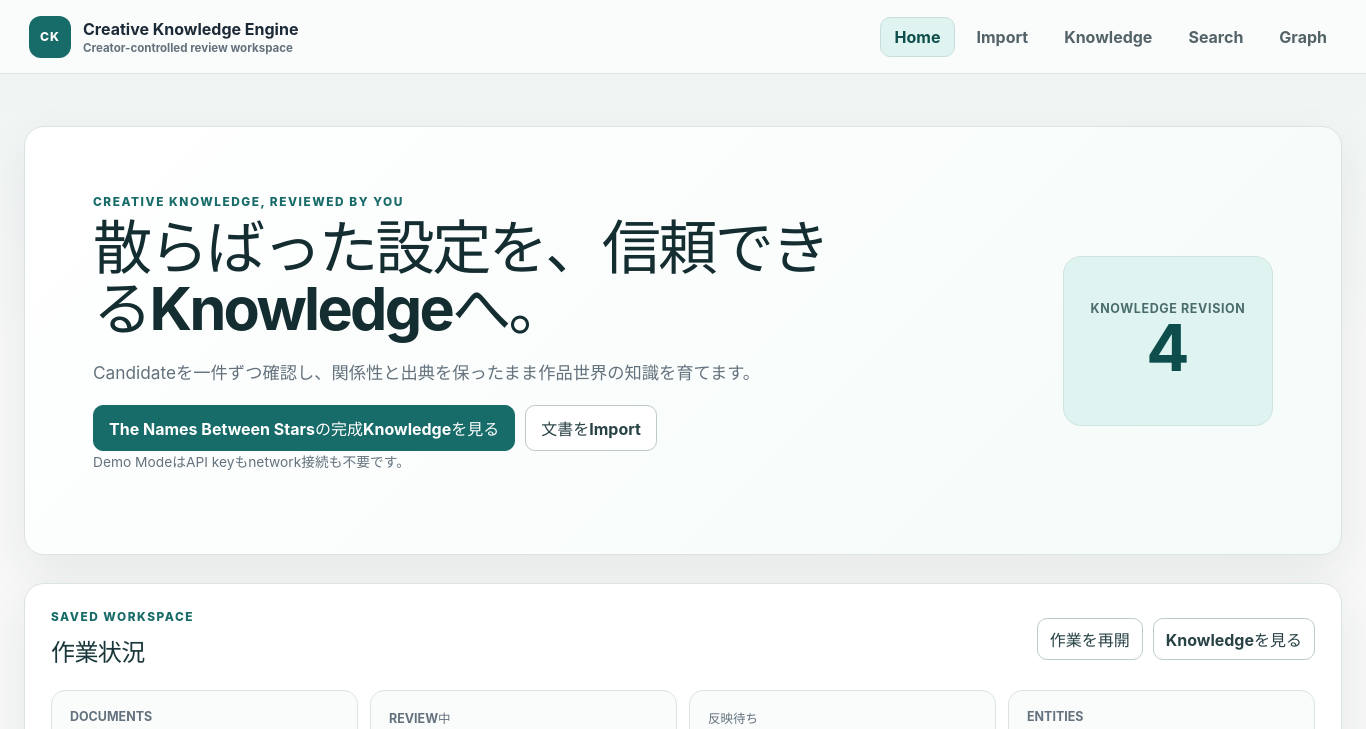
Scenario: Step 7 Export UI › previews and downloads only the versioned canonical Knowledge JSON
The width and height of the screenshot is (1366, 729).
Check: the heading "散らばった設定を、信頼できるKnowledgeへ。" is shown, box [93, 218, 873, 340]
Click the button "Knowledge".
click(1108, 36)  # box [1049, 16, 1167, 56]
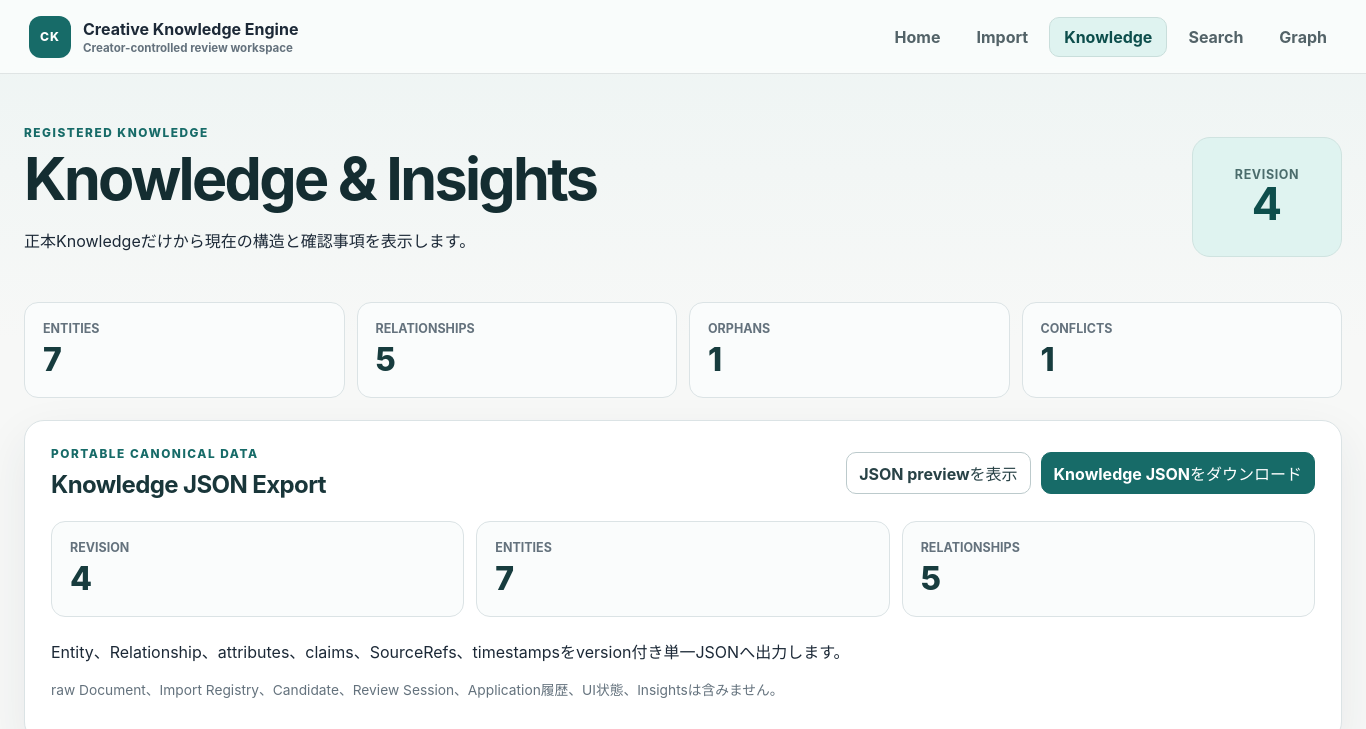
Check: the text "\"schemaVersion\": 1" is not shown
Click the button "JSON previewを表示".
click(938, 473)  # box [846, 452, 1031, 494]
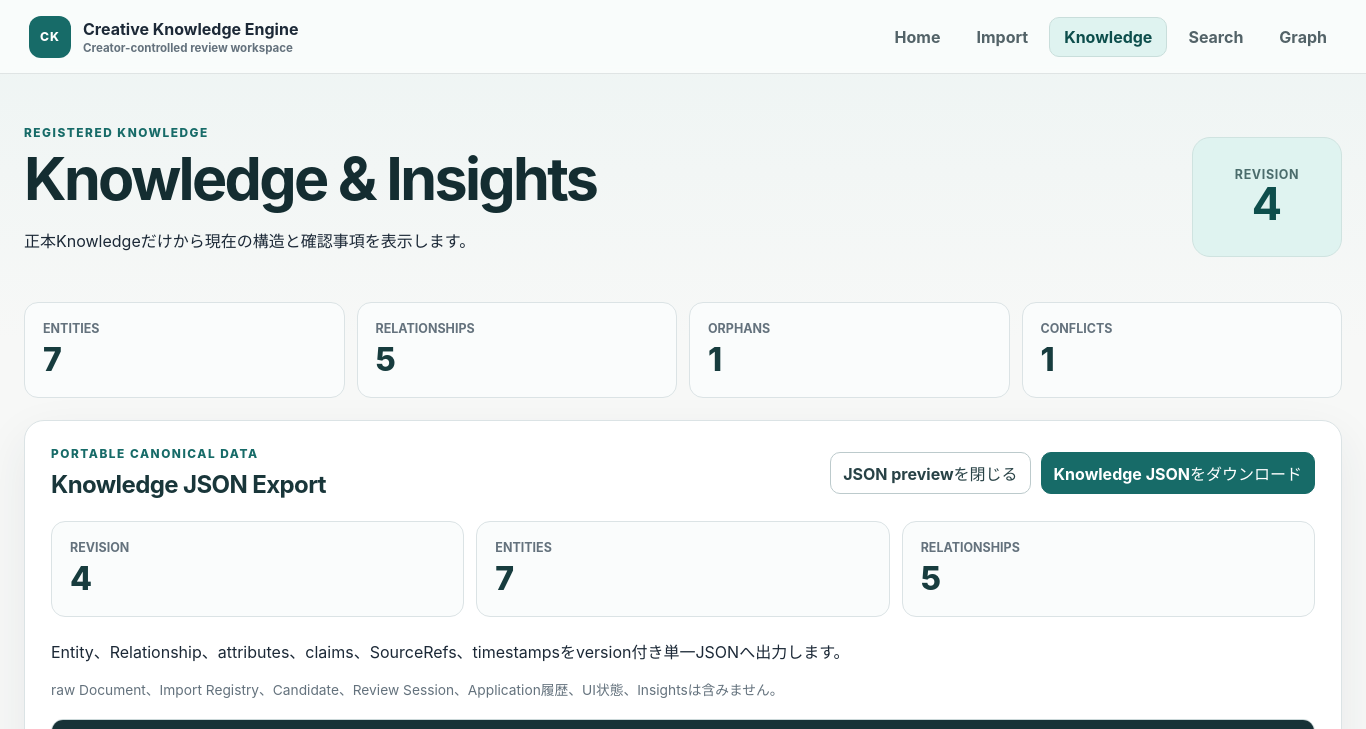
Click the button "Knowledge JSONをダウンロード".
click(1178, 473)  # box [1041, 452, 1315, 494]
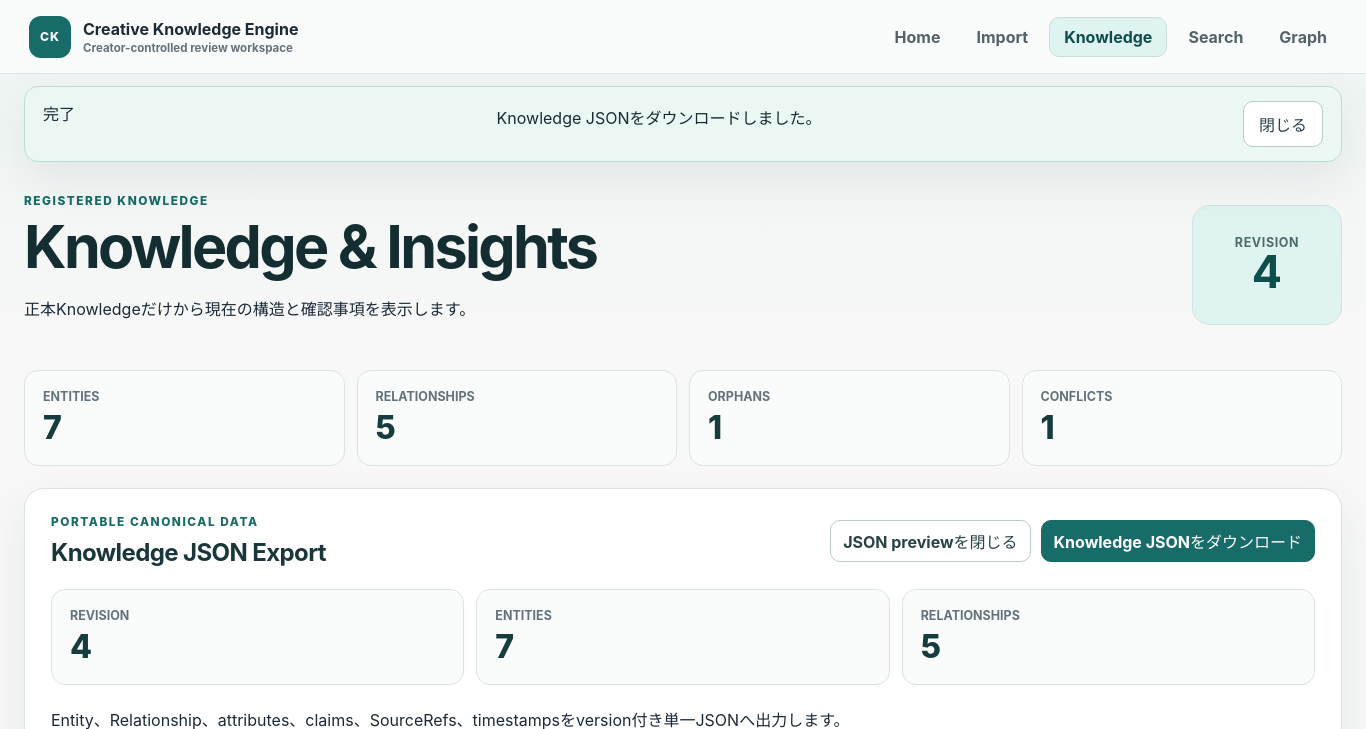
Check: the text "Knowledge JSONをダウンロードしました。" is shown, box [496, 105, 821, 129]
